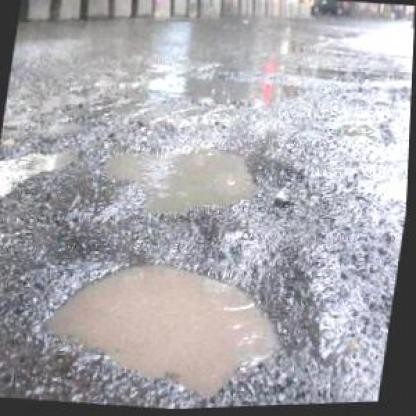pothole: (29, 225, 330, 413), (89, 116, 286, 233)
